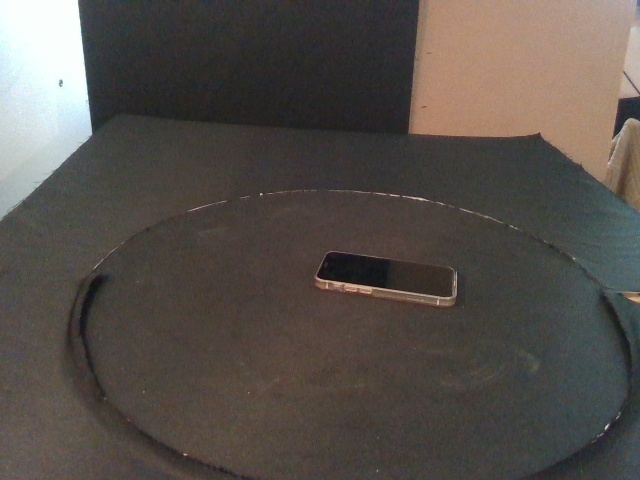phone: (313, 250, 458, 309)
